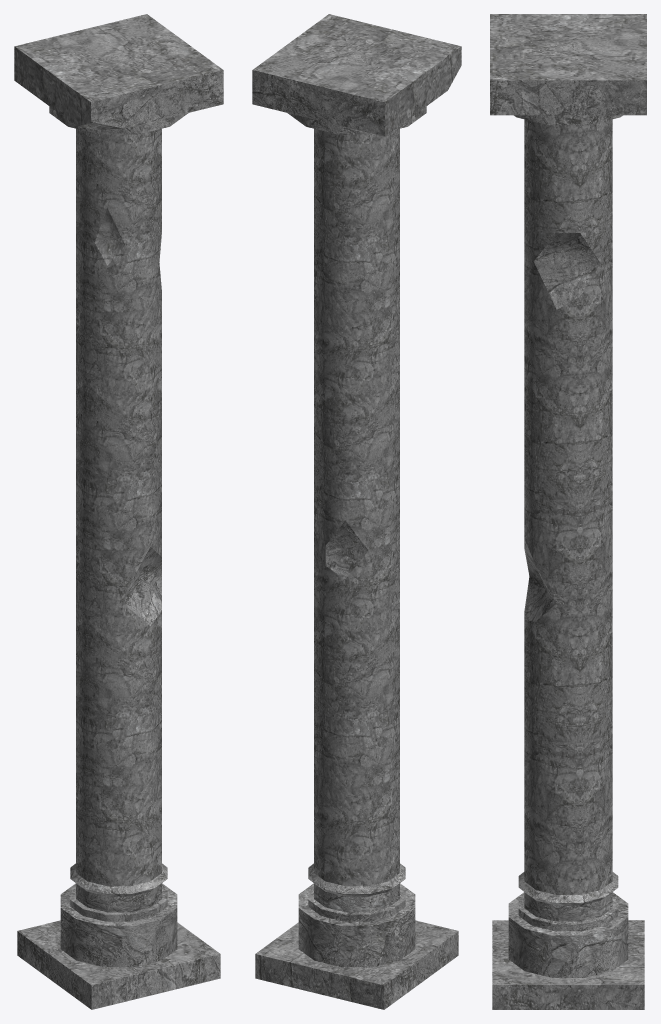
Rendered from materials_3_pillar_0.fbx.
The picture shows the model from 3 angles, left to right: view 1: azimuth 30°, elevation 25°; view 2: azimuth 150°, elevation 25°; view 3: azimuth 270°, elevation 25°; orthographic projection. The views are drawn at different scales.
Parts seen in each view (by area): view 1: materials_3_pillar_0; view 2: materials_3_pillar_0; view 3: materials_3_pillar_0.
Boxes of the visible parts, x1,y1,x2,y2 form: materials_3_pillar_0: [14, 14, 223, 1009]; materials_3_pillar_0: [252, 14, 461, 1009]; materials_3_pillar_0: [490, 14, 646, 1009].
Bounding box in the file's own units: 49.93 × 327 × 49.93.
